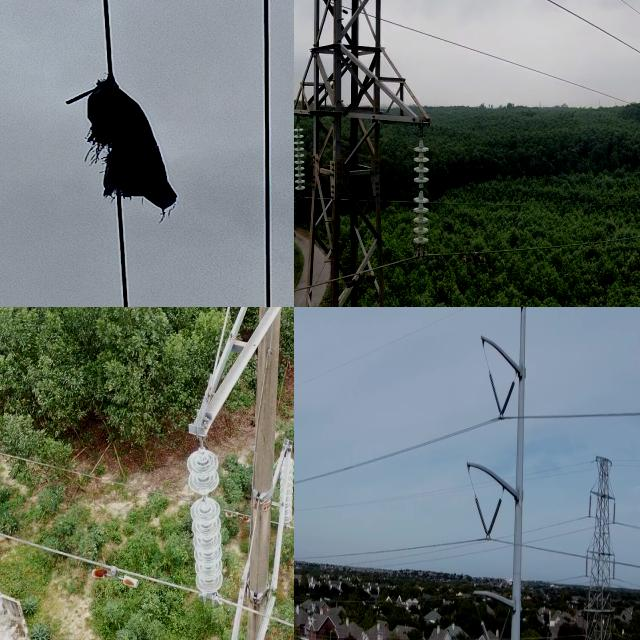杆塔: (294, 0, 440, 307), (167, 307, 294, 640), (559, 440, 626, 640)
植被遮挡: (51, 64, 187, 221)
正常绝缘子: (185, 444, 231, 618), (406, 130, 438, 258), (482, 360, 506, 425), (294, 109, 310, 204), (468, 483, 492, 546), (480, 490, 506, 548), (278, 442, 294, 533), (494, 372, 518, 428), (475, 609, 493, 640), (495, 615, 513, 640), (582, 551, 590, 584), (588, 489, 594, 521), (612, 552, 617, 586), (612, 499, 617, 527)
绝缘子破损: (198, 494, 209, 504), (417, 184, 425, 194)
